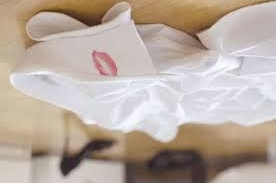lipstick: (89, 48, 122, 80)
